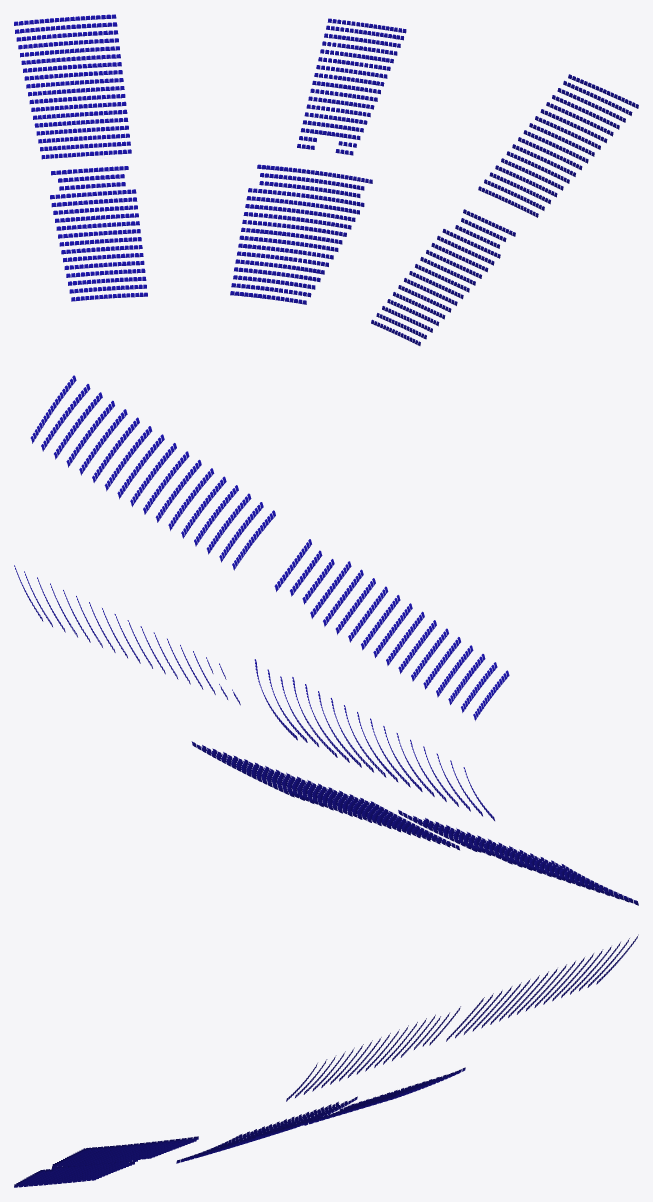
The model's file is bluechairsnorth3.obj.
The picture shows the model from 3 angles, top to bottom: view 1: azimuth 30°, elevation 25°; view 2: azimuth 150°, elevation 25°; view 3: azimuth 270°, elevation 25°; orthographic projection. The views are drawn at different scales.
Visible parts, largest first — view 1: sedie2anello196, sedie2anello220, sedie2anello176, sedie2anello190, sedie2anello193, sedie2anello174; view 2: sedie2anello190, sedie2anello174, sedie2anello196, sedie2anello176, sedie2anello220, sedie2anello193; view 3: sedie2anello196, sedie2anello190, sedie2anello176, sedie2anello174, sedie2anello220, sedie2anello193.
Boxes of the visible parts, box(x1,y1,x2,y2) form: sedie2anello196: box(14, 14, 131, 159); sedie2anello220: box(230, 164, 372, 304); sedie2anello176: box(50, 166, 147, 301); sedie2anello190: box(478, 74, 638, 217); sedie2anello193: box(297, 18, 406, 155); sedie2anello174: box(371, 209, 515, 345); sedie2anello190: box(30, 375, 275, 570); sedie2anello174: box(274, 539, 509, 720); sedie2anello196: box(191, 741, 459, 850); sedie2anello176: box(398, 810, 638, 905); sedie2anello220: box(254, 659, 494, 820); sedie2anello193: box(14, 565, 240, 705); sedie2anello196: box(446, 934, 638, 1041); sedie2anello190: box(52, 1136, 198, 1167); sedie2anello176: box(286, 1006, 460, 1101); sedie2anello174: box(14, 1159, 137, 1187); sedie2anello220: box(176, 1096, 357, 1163); sedie2anello193: box(304, 1067, 465, 1125).
Bounding box in the file's own units: 52.87 × 17.05 × 53.62.
